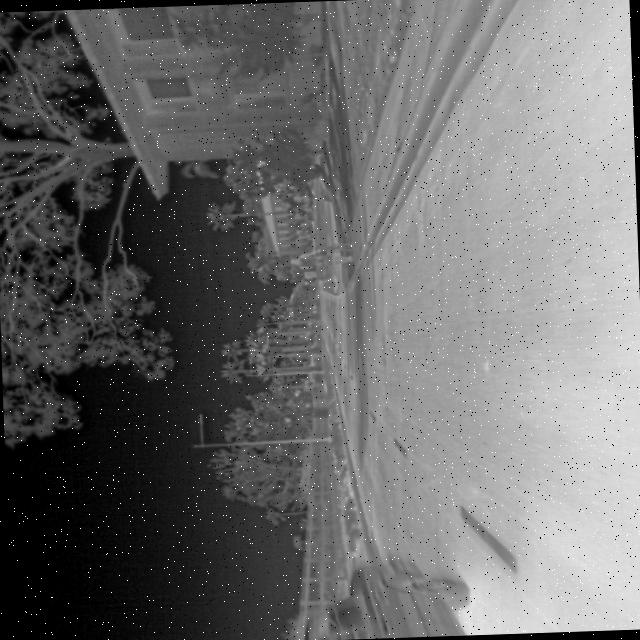Pedestrian: (286, 246, 356, 272)
Vehicle: (291, 556, 472, 640)
